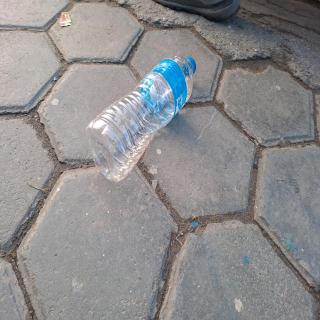Plastic-bottle: (82, 50, 202, 195)
